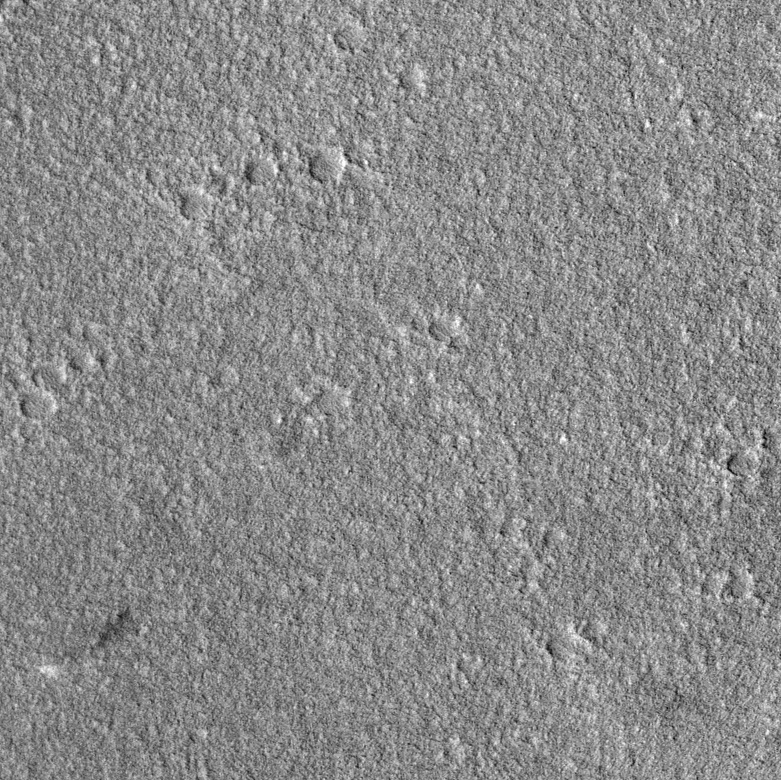dust_devil: (35, 605, 141, 680)
